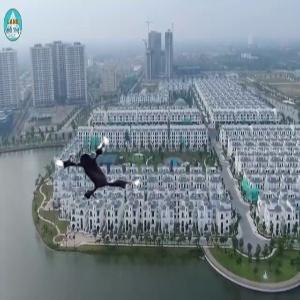drone: (49, 115, 152, 218)
